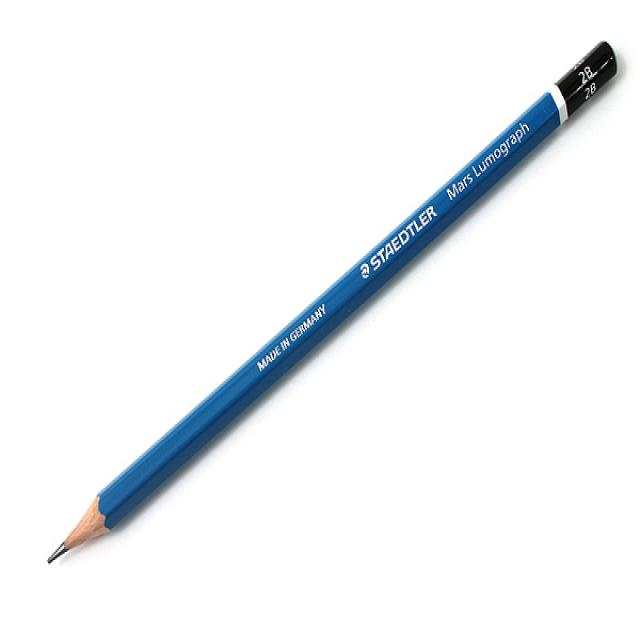pencil: (30, 22, 627, 574)
